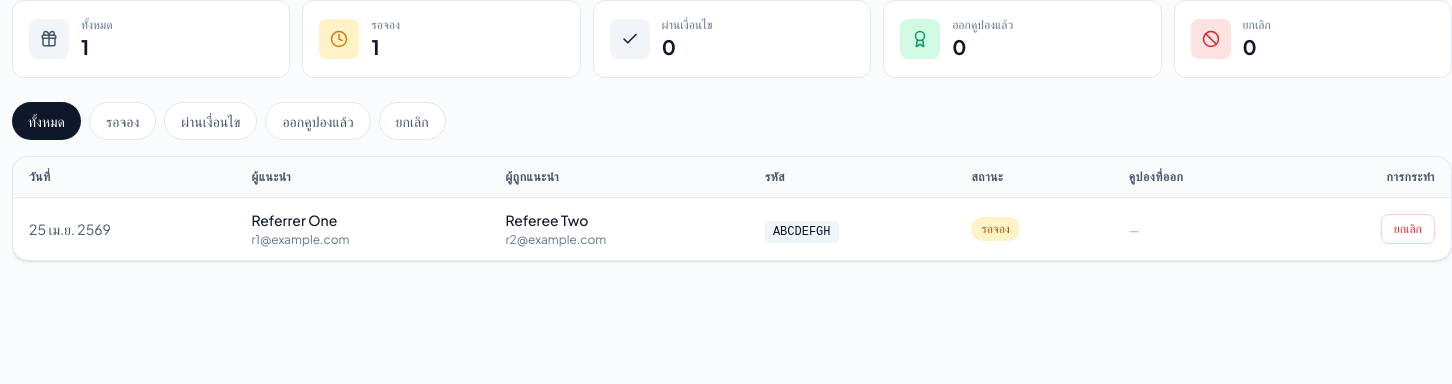
Test case: ReferralsManager › shows empty-state message when filter returns nothing
Click the button "ผ่านเงื่อนไข": (211, 121) [164, 102, 257, 140]
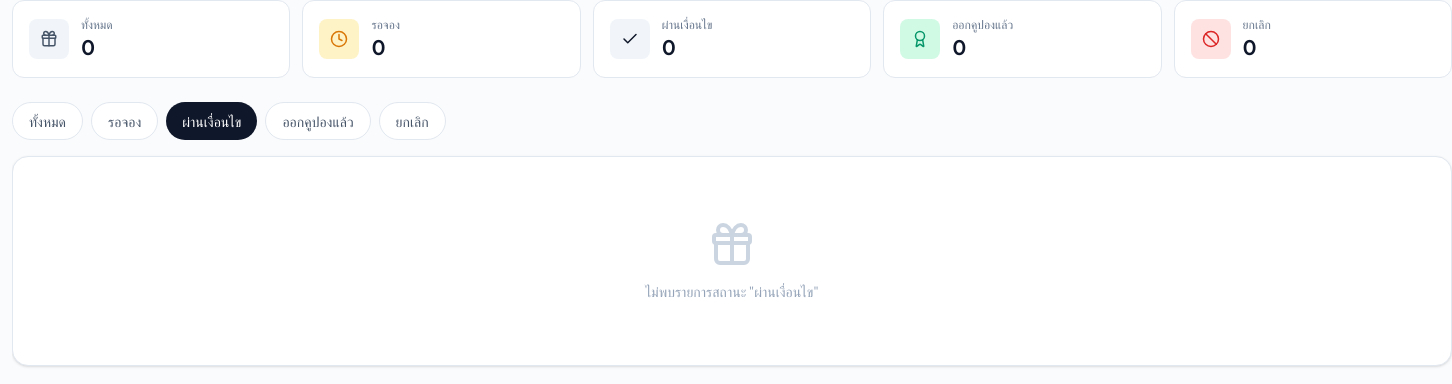
Now the text "ไม่พบรายการสถานะ \"ผ่านเงื่อนไข\"" is shown, box [645, 282, 819, 300]
